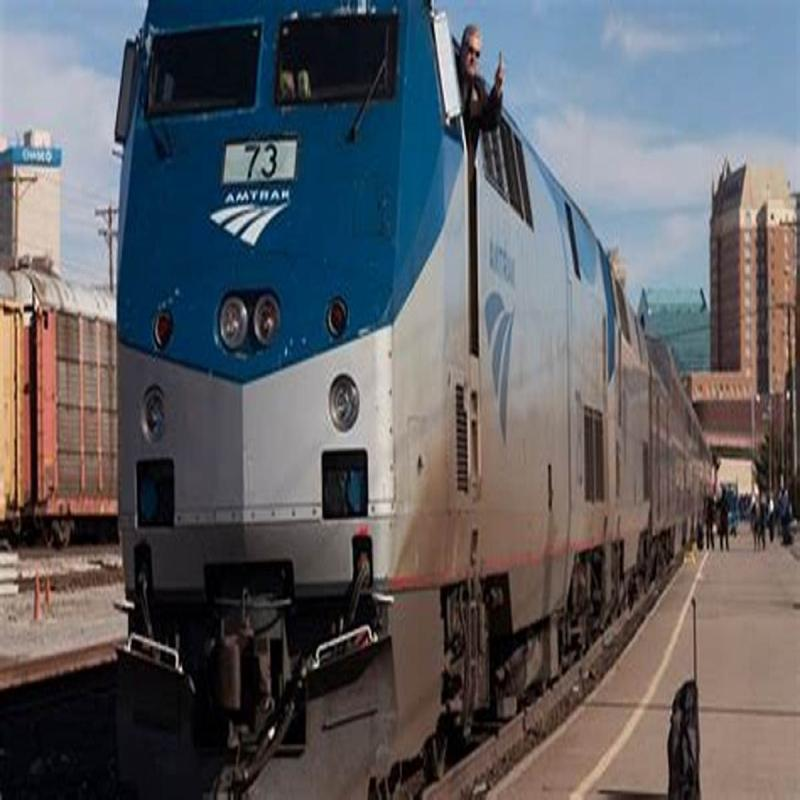train: (106, 2, 665, 727)
